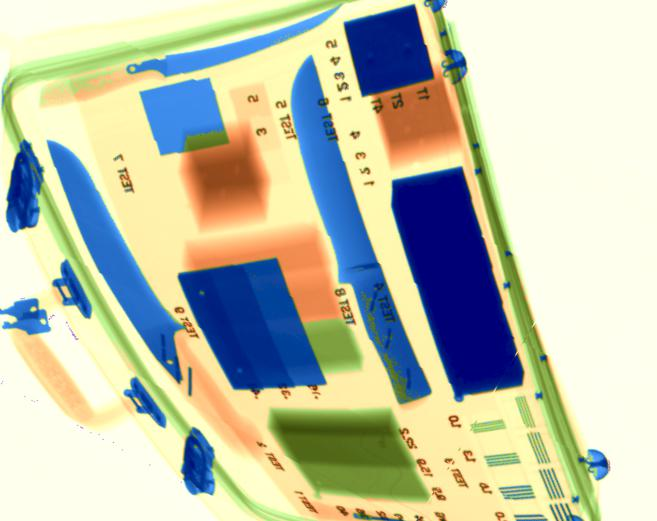Knife: (290, 55, 432, 407), (44, 137, 199, 403), (34, 1, 344, 110)
